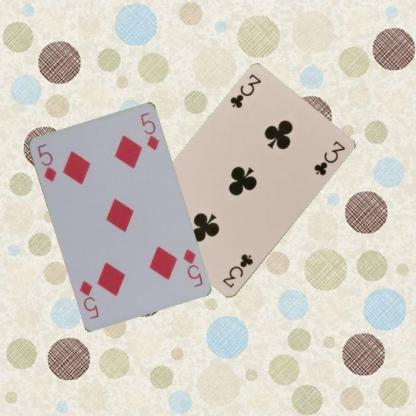3c: (227, 72, 263, 111), (219, 252, 254, 289)
5d: (180, 246, 204, 288), (34, 141, 57, 183)
